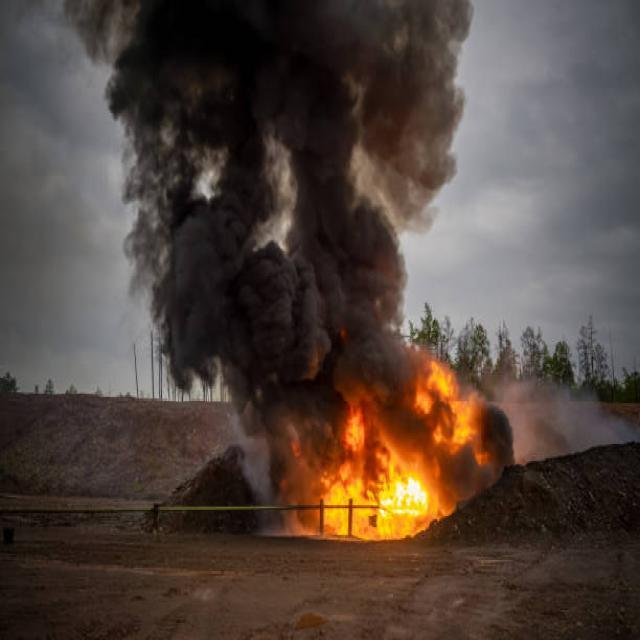Fire: (292, 370, 485, 566)
Smoke: (108, 0, 484, 432)
